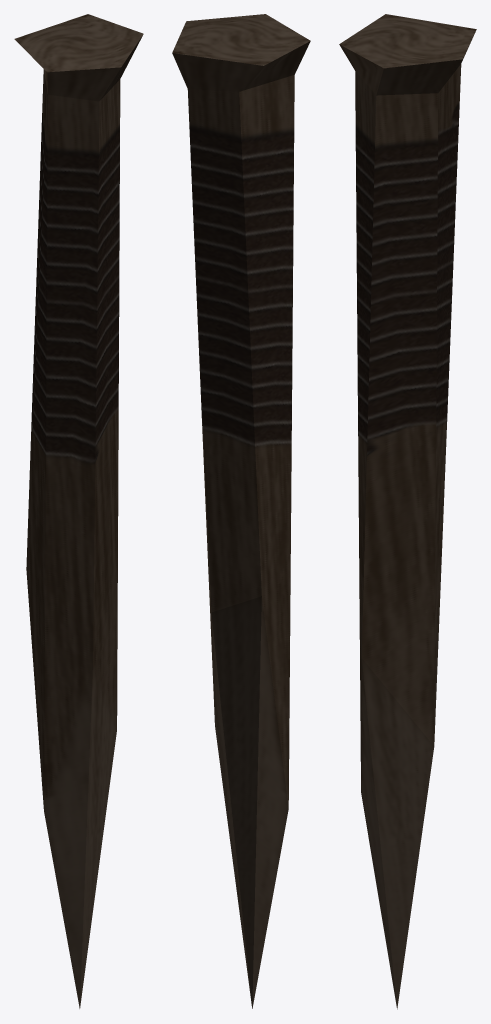
File: stake.fbx
3 renders of one model, left to right at view 1: azimuth 30°, elevation 25°; view 2: azimuth 150°, elevation 25°; view 3: azimuth 330°, elevation 25°, orthographic.
Visible parts, largest first — view 1: Cube; view 2: Cube; view 3: Cube.
Boxes of the visible parts, bbox=[...] form: Cube: bbox=[14, 14, 143, 1008]; Cube: bbox=[172, 14, 310, 1008]; Cube: bbox=[339, 14, 476, 1009].
Size of the model in its own units: 42.76 by 358 by 42.36.
1 material, 1 textured.
